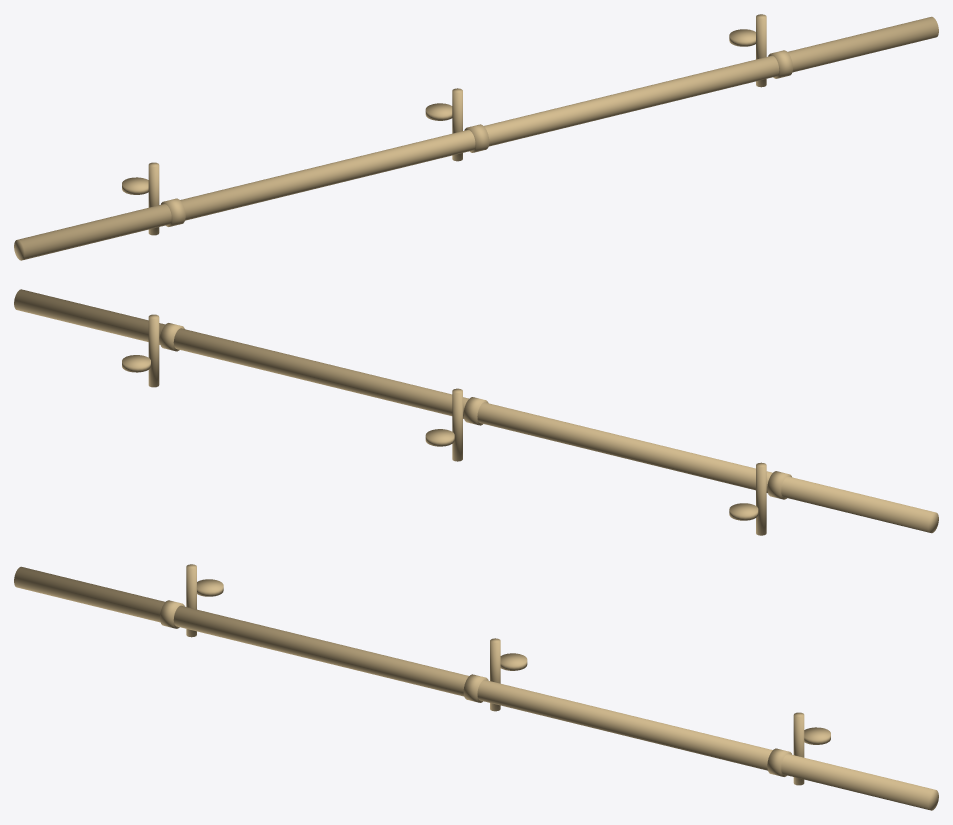
The model's file is foot-rail.glb.
The picture shows the model from 3 angles, top to bottom: view 1: azimuth 30°, elevation 25°; view 2: azimuth 150°, elevation 25°; view 3: azimuth 330°, elevation 25°; orthographic projection.
Visible parts, largest first — view 1: foot-rail; view 2: foot-rail; view 3: foot-rail.
Part boxes in pixels (left/top/right/bottom): foot-rail: left=14, top=14, right=938, bottom=260; foot-rail: left=14, top=289, right=938, bottom=535; foot-rail: left=14, top=564, right=938, bottom=810.
Size of the model in its own units: 2.17 by 0.155 by 0.206.
